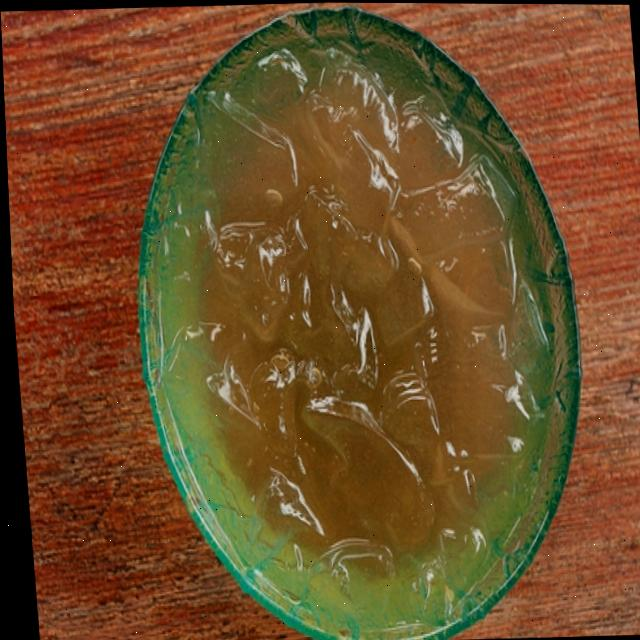蛋糕甜品: (115, 6, 595, 640)
